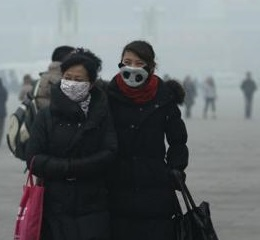person: (96, 41, 211, 240), (19, 46, 110, 240), (6, 45, 83, 161), (238, 69, 258, 120), (178, 71, 199, 119), (199, 75, 221, 119), (17, 71, 35, 102)
